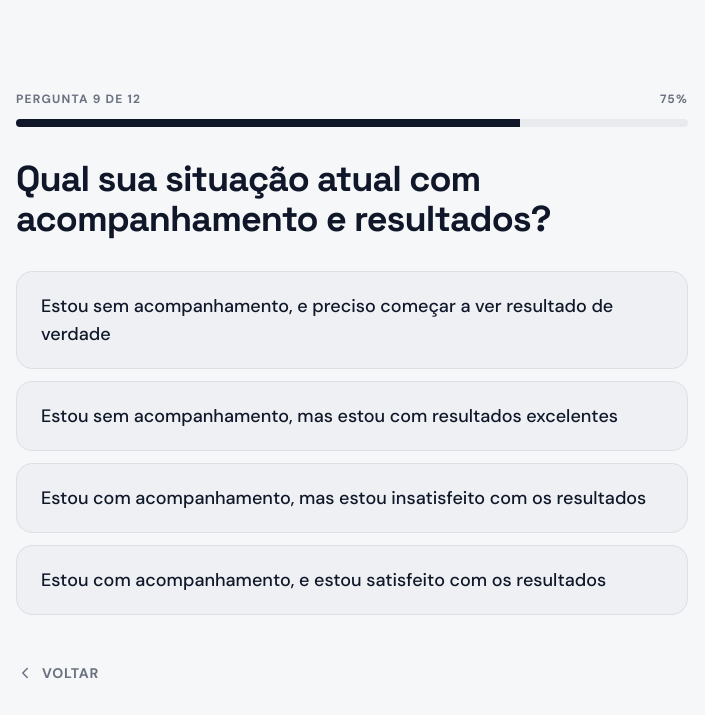
Scenario: quiz da avaliação → link do /agendar › versão do teste: /agendar leva cm_click e cm_variant do rotador
The image size is (705, 715).
Earlier steps of the test are not shown.
Click the button "Estou sem acompanhamento, e preciso começar a ver resultado de verdade": coordinates (352, 320) [16,271,688,369]
Wait 400 ms
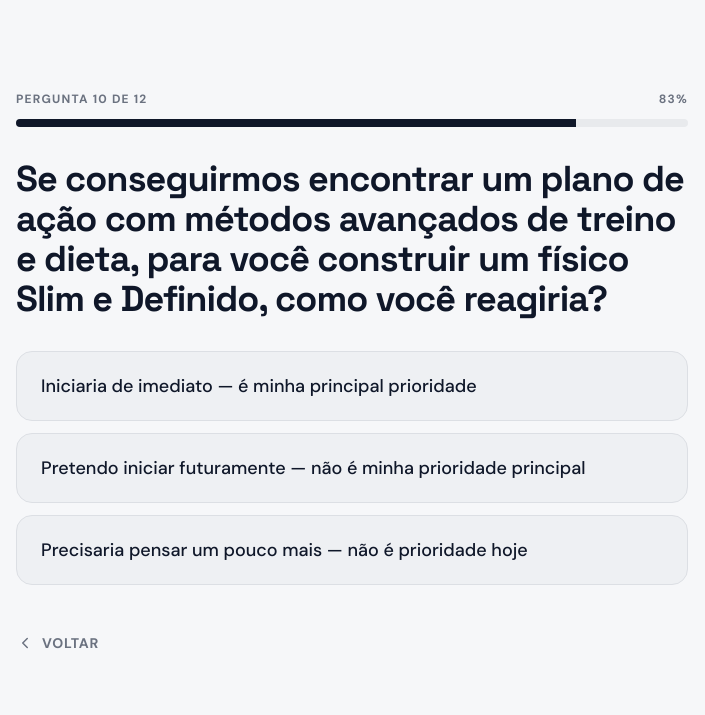
Click the button "Iniciaria de imediato — é minha principal prioridade": coordinates (352, 386) [16,351,688,421]
Wait 400 ms
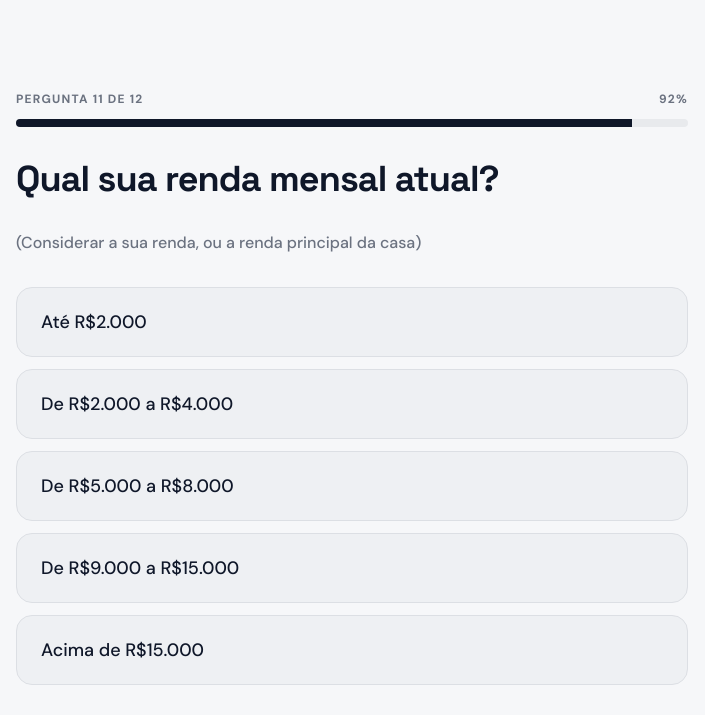
Click the button "Acima de R$15.000": coordinates (123, 650) [16,615,688,685]
Wait 400 ms
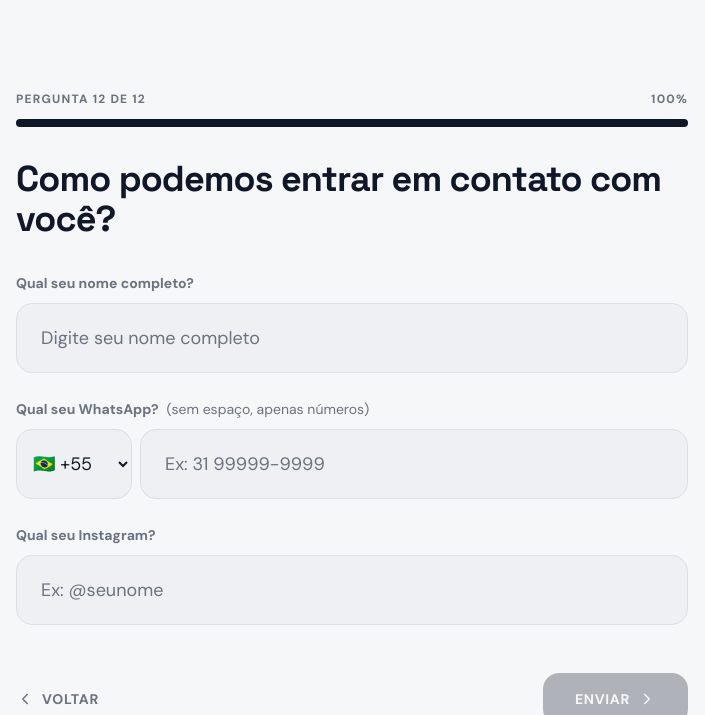
In the field with placeholder "Digite seu nome completo": coordinates (352, 338) [16,303,688,373], type "Teste Beacon"
In the field with placeholder "Ex: 31 99999-9999": coordinates (414, 464) [140,429,688,499], type "31999999999"
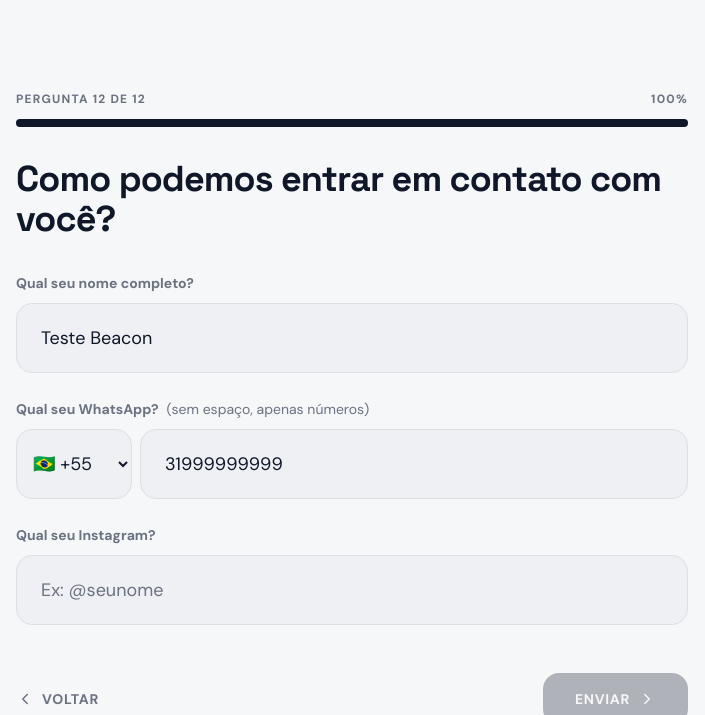
In the field with placeholder "Ex: @seunome": coordinates (352, 590) [16,555,688,625], type "@teste"
(page scrolled)
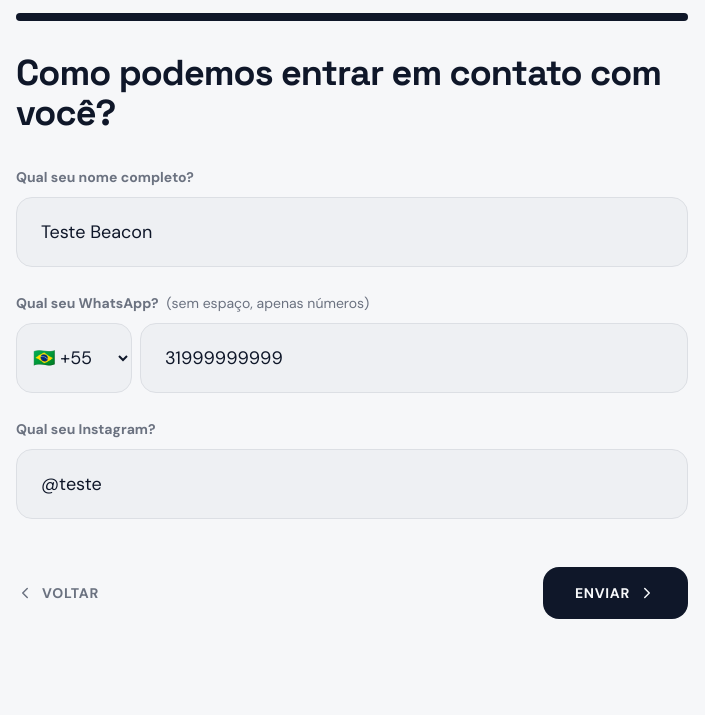
Click the button "Enviar": coordinates (616, 593) [543,567,688,619]
Wait 100 ms
(page scrolled)
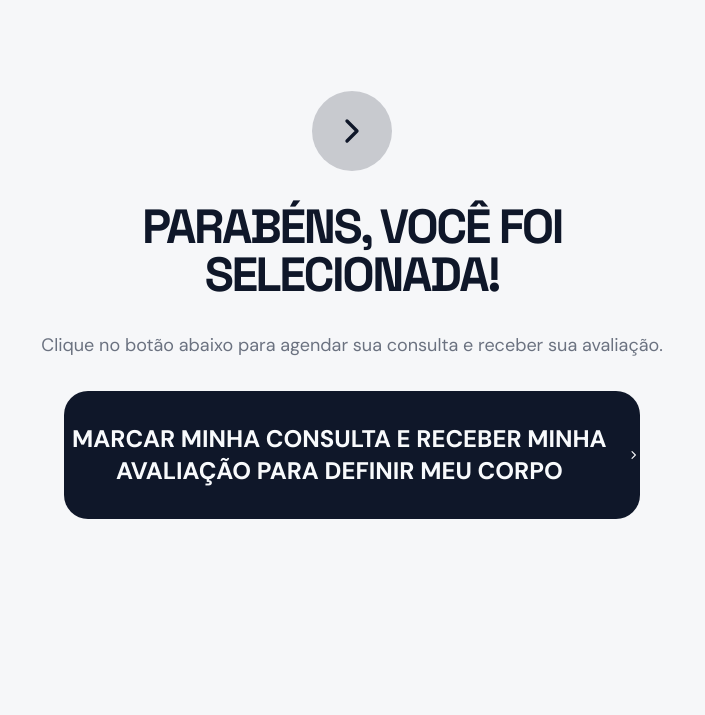
Now the text "Marcar minha consulta" is shown, box [72,423,607,486]
